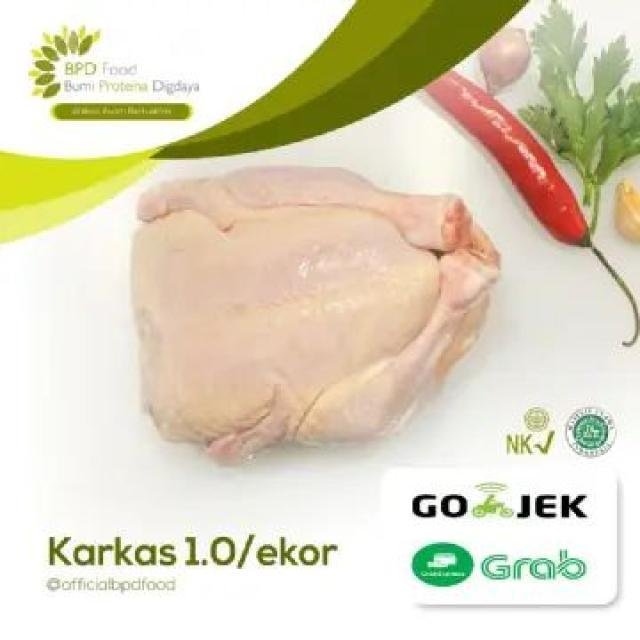Chicken: (110, 146, 520, 477)
